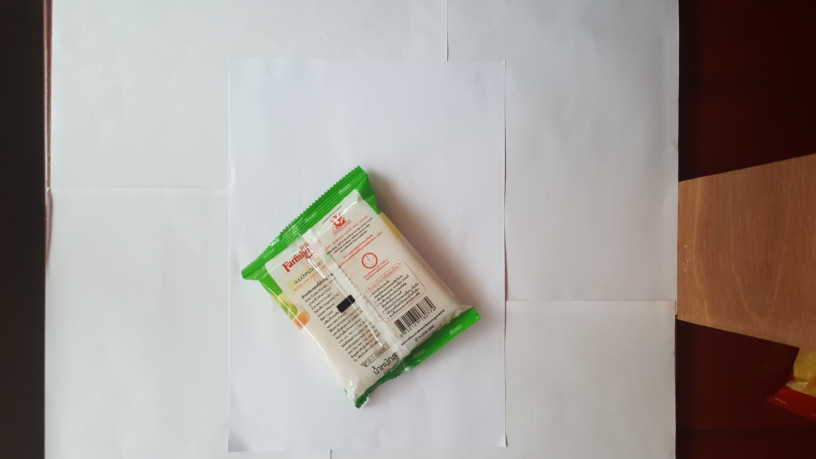farmhouse-bread-pandan: (245, 164, 482, 409)
